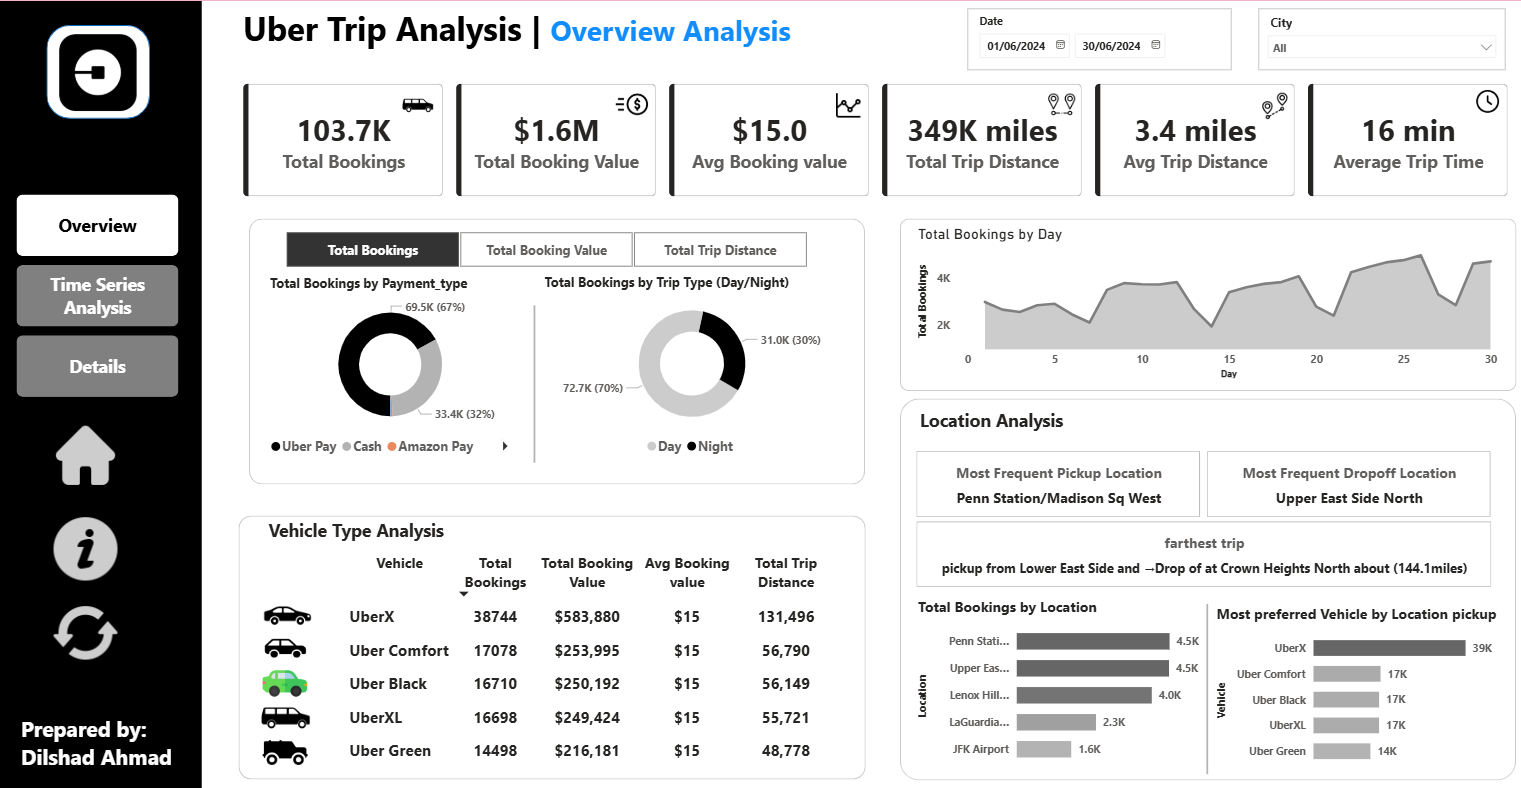

Layout of this report page (visuals, bound fields, positions):
{"tool":"powerbi","page":{"name":"Overview","canvas":[1800,900],"ordinal":0},"visuals":[{"type":"shape","box":[33.3,0,233,900.7],"z":0},{"type":"cardVisual","fields":{"Data":["Trip Details.Total Bookings","Trip Details.Total Booking Value","Trip Details.Avg Booking Amount","Trip Details.Total Trip Distance","Trip Details.Avg Trip Distance","Trip Details.Average Trip Time"]},"box":[309,89.5,1447.6,138.3],"z":1000},{"type":"textbox","box":[308.4,0,687.8,68.8],"z":2000},{"type":"image","box":[1199.6,97.6,87.4,40.7],"z":3000},{"type":"image","box":[488,91.5,48.8,52.9],"z":4000},{"type":"image","box":[980,98,42,42],"z":5000},{"type":"image","box":[1709.9,93.5,36.6,40.7],"z":6000},{"type":"image","box":[731.9,93.5,48.8,46.8],"z":7000},{"type":"image","box":[1465.9,99.6,42.7,40.7],"z":8000},{"type":"shape","box":[320.5,247.7,700,302.3],"z":9000},{"type":"slicer","fields":{"Values":["Dynamic_Parameter.Dynamic_Parameter"]},"box":[338.3,255.3,640.4,53.2],"z":10000},{"type":"donutChart","fields":{"Y":["Trip Details.Total Bookings"],"Category":["Trip Details.Payment_type"]},"box":[338.4,310.6,282.8,215.5],"z":11000},{"type":"donutChart","fields":{"Y":["Trip Details.Total Bookings"],"Category":["Trip Details.Trip Type (Day/Night)"]},"box":[651.1,308.5,344.7,217],"z":12000},{"type":"shape","box":[308.5,585.1,712.8,300],"z":13000},{"type":"pivotTable","fields":{"Rows":["Trip Details.Vehicle"],"Values":["Trip Details.Total Bookings","Trip Details.Total Booking Value","Trip Details.Avg Booking value","Trip Details.Total Trip Distance Measure"]},"box":[423.4,614.9,580.9,263.8],"z":14000},{"type":"image","box":[268.1,663.8,193.6,70.2],"z":15000},{"type":"image","box":[264.3,778.7,195.2,71.2],"z":16000},{"type":"image","box":[250.1,744.2,221.6,61],"z":17000},{"type":"image","box":[264.3,705.5,195.2,59],"z":18000},{"type":"image","box":[296.9,823.5,130.1,61],"z":19000},{"type":"card","fields":{"Values":["Trip Details.Vehical heading"]},"box":[319.2,585.6,246,32.5],"z":20000},{"type":"shape","box":[1059.7,246.8,700.4,196],"z":21000},{"type":"shape","box":[1059.6,451.1,700,434],"z":22000},{"type":"cardVisual","fields":{"Data":["Trip Details.Top Pickup Location","Trip Details.Top Drop Location"]},"box":[1074.5,506.4,663.8,85.1],"z":23000},{"type":"cardVisual","fields":{"Data":["Trip Details.farthest trip"]},"box":[1074.5,591.5,663.8,74.5],"z":24000},{"type":"barChart","fields":{"Y":["Trip Details.Total Bookings"],"Category":["Location Table.Location"]},"box":[1076,676.8,332.1,201.4],"z":25000},{"type":"barChart","title":"Most preferred Vehicle by Location pickup","fields":{"Category":["Trip Details.Vehicle"],"Y":["CountNonNull(Trip Details.PULocationID)"]},"box":[1415.3,685.9,332.1,194.2],"z":26000},{"type":"shape","box":[616.5,345.3,55.6,178.5],"z":27000},{"type":"shape","box":[1380.9,685.1,57.4,193.6],"z":28000},{"type":"slicer","fields":{"Values":["Calender.Date"]},"box":[1136.2,8.5,300,70.2],"z":29000},{"type":"slicer","fields":{"Values":["Location Table.City"]},"box":[1468.1,8.5,280.9,70.2],"z":30000},{"type":"card","fields":{"Values":["Trip Details.Title Location"]},"box":[1074.5,461.7,180,31.9],"z":31000},{"type":"areaChart","fields":{"Category":["Calender.Date.Variation.Date Hierarchy.Day"],"Y":["Trip Details.Total Bookings"]},"box":[1075,254.5,670.5,179.5],"z":32000},{"type":"group","id":"g1","title":"Group 1","box":[91,26.6,117.6,106.5],"z":33000},{"type":"shape","box":[91,26.6,117.6,106.5],"z":33000,"group":"g1"},{"type":"image","box":[95.4,31,106.5,97.6],"z":34000,"group":"g1"},{"type":"pageNavigator","box":[55.5,219.6,184.1,230.7],"z":34000},{"type":"image","box":[91,581.3,88.7,82.1],"z":35000},{"type":"image","box":[91,477,88.7,77.7],"z":36000},{"type":"image","box":[91,676.7,88.7,82.1],"z":37000},{"type":"textbox","box":[55.6,804.2,183.1,74.2],"z":39000}]}

Visuals, with their boxes on the page's 1800x900 design canvas (x1, y1, x2, y2). These are canvas units, not pixel positions in the 1521x788 screenshot, which may show the page scaled, cropped or inside an application window:
shape: (left=33, top=0, right=266, bottom=901)
cardVisual - Trip Details.Total Bookings x Trip Details.Total Booking Value: (left=309, top=90, right=1757, bottom=228)
textbox: (left=308, top=0, right=996, bottom=69)
image: (left=1200, top=98, right=1287, bottom=138)
image: (left=488, top=92, right=537, bottom=144)
image: (left=980, top=98, right=1022, bottom=140)
image: (left=1710, top=94, right=1746, bottom=134)
image: (left=732, top=94, right=781, bottom=140)
image: (left=1466, top=100, right=1509, bottom=140)
shape: (left=320, top=248, right=1020, bottom=550)
slicer - Dynamic_Parameter.Dynamic_Parameter: (left=338, top=255, right=979, bottom=308)
donutChart - Trip Details.Total Bookings x Trip Details.Payment_type: (left=338, top=311, right=621, bottom=526)
donutChart - Trip Details.Total Bookings x Trip Details.Trip Type (Day/Night): (left=651, top=308, right=996, bottom=526)
shape: (left=308, top=585, right=1021, bottom=885)
pivotTable - Trip Details.Vehicle x Trip Details.Total Bookings: (left=423, top=615, right=1004, bottom=879)
image: (left=268, top=664, right=462, bottom=734)
image: (left=264, top=779, right=460, bottom=850)
image: (left=250, top=744, right=472, bottom=805)
image: (left=264, top=706, right=460, bottom=764)
image: (left=297, top=824, right=427, bottom=884)
card - Trip Details.Vehical heading: (left=319, top=586, right=565, bottom=618)
shape: (left=1060, top=247, right=1760, bottom=443)
shape: (left=1060, top=451, right=1760, bottom=885)
cardVisual - Trip Details.Top Pickup Location x Trip Details.Top Drop Location: (left=1074, top=506, right=1738, bottom=592)
cardVisual - Trip Details.farthest trip: (left=1074, top=592, right=1738, bottom=666)
barChart - Trip Details.Total Bookings x Location Table.Location: (left=1076, top=677, right=1408, bottom=878)
"Most preferred Vehicle by Location pickup" barChart: (left=1415, top=686, right=1747, bottom=880)
shape: (left=616, top=345, right=672, bottom=524)
shape: (left=1381, top=685, right=1438, bottom=879)
slicer - Calender.Date: (left=1136, top=8, right=1436, bottom=79)
slicer - Location Table.City: (left=1468, top=8, right=1749, bottom=79)
card - Trip Details.Title Location: (left=1074, top=462, right=1254, bottom=494)
areaChart - Calender.Date.Variation.Date Hierarchy.Day x Trip Details.Total Bookings: (left=1075, top=254, right=1746, bottom=434)
"Group 1" group: (left=91, top=27, right=209, bottom=133)
shape: (left=91, top=27, right=209, bottom=133)
image: (left=95, top=31, right=202, bottom=129)
pageNavigator: (left=56, top=220, right=240, bottom=450)
image: (left=91, top=581, right=180, bottom=663)
image: (left=91, top=477, right=180, bottom=555)
image: (left=91, top=677, right=180, bottom=759)
textbox: (left=56, top=804, right=239, bottom=878)
